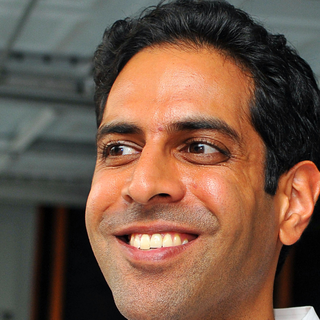eye: (176, 135, 227, 162), (99, 138, 142, 164)
